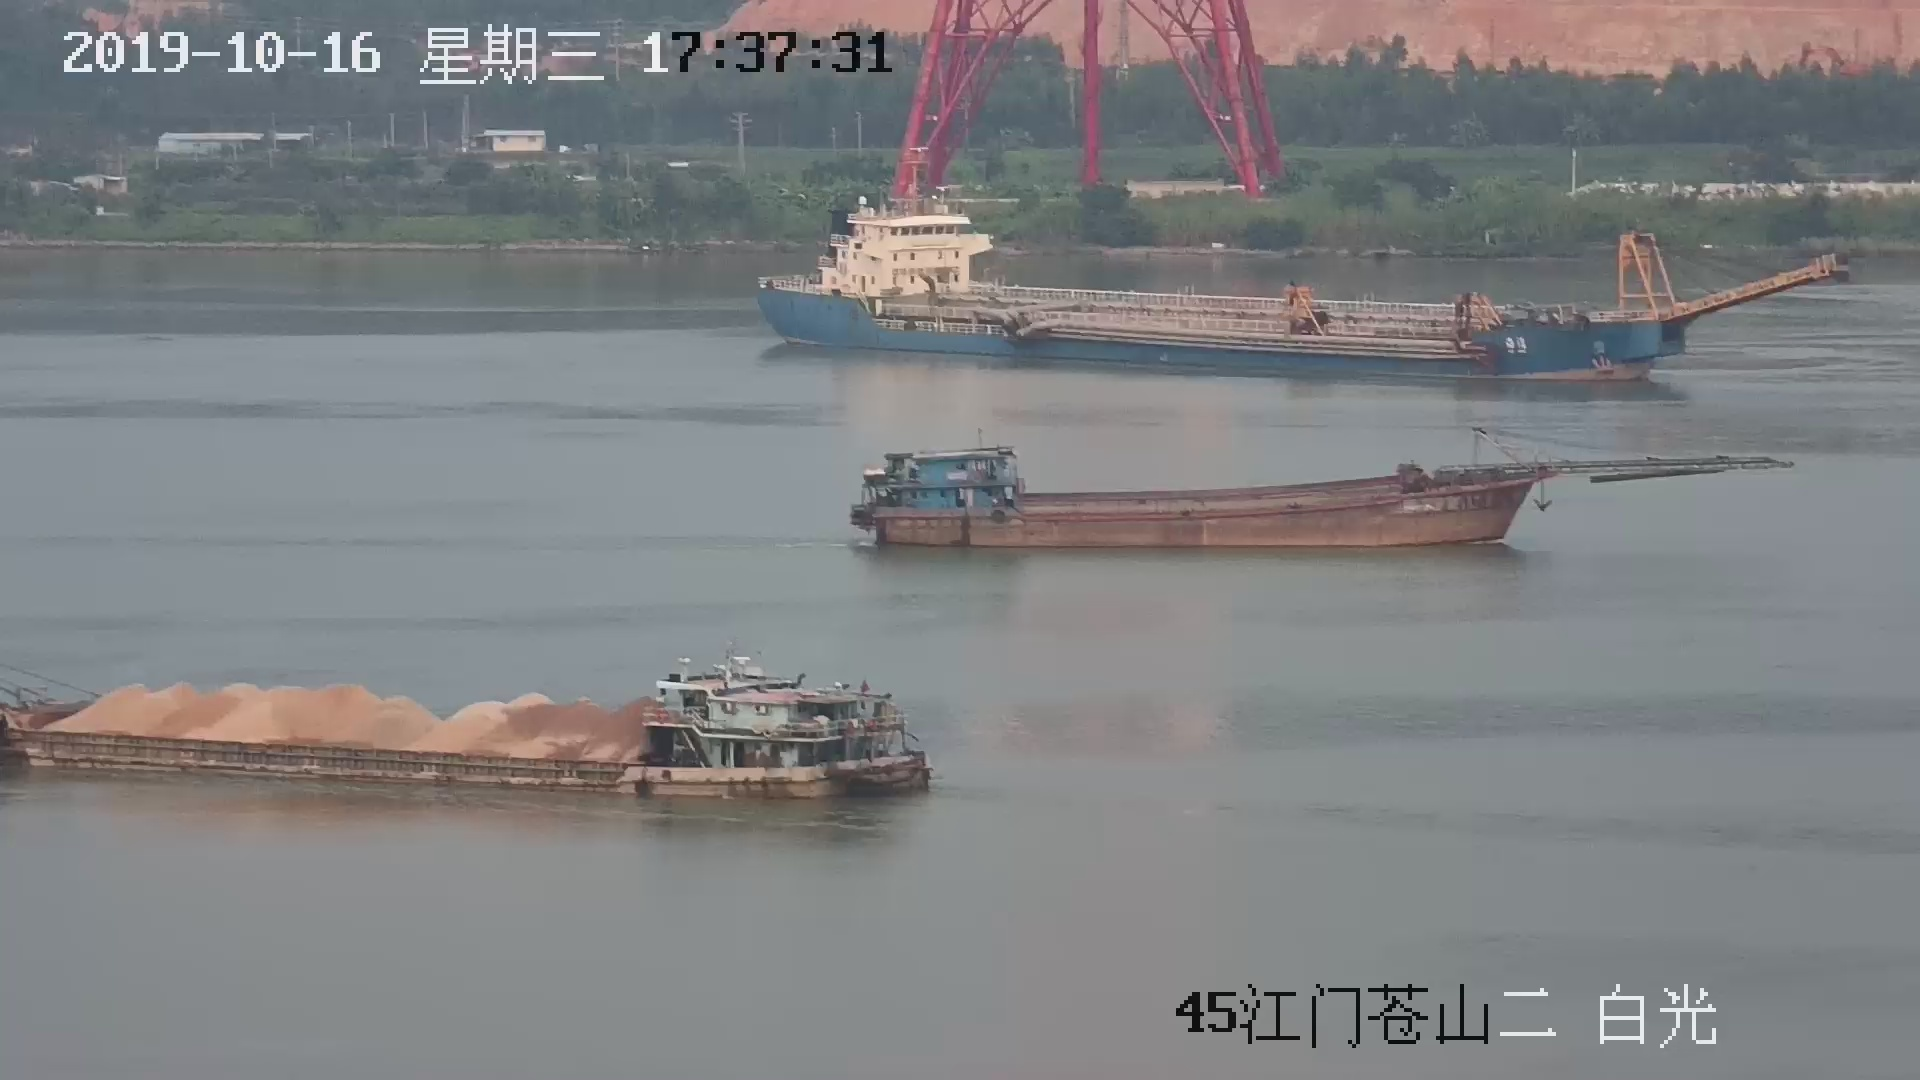ship: (748, 195, 1849, 388), (1, 646, 939, 794), (855, 438, 1793, 549)
